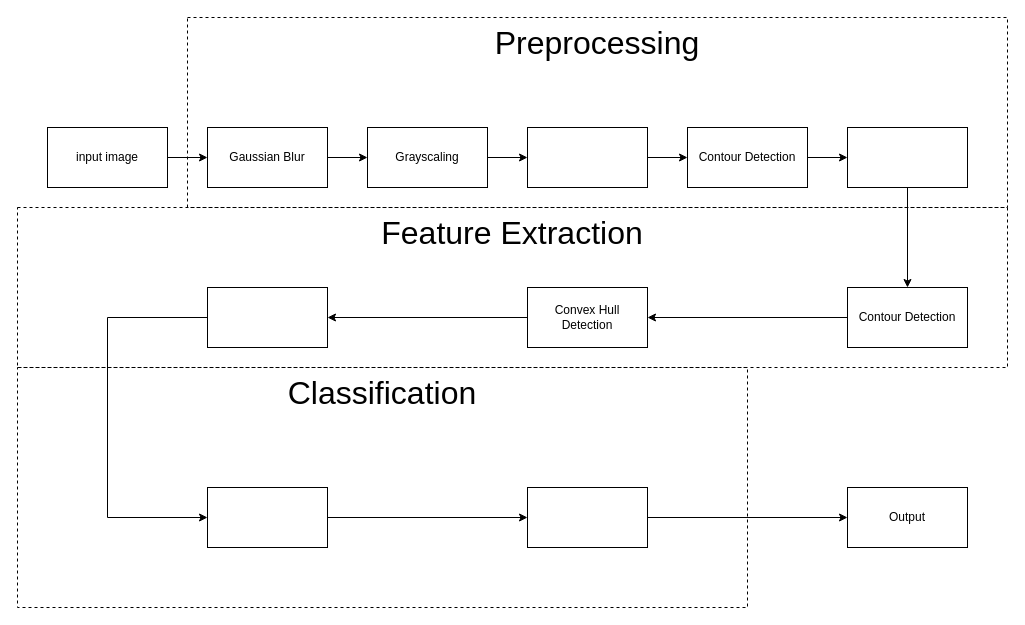
This 1025x625 diagram has some shape labels left out. Here are the shapes that lost their labels. From the top down, the centre of each, then its label:
At (x=587, y=157): "Thresholding".
At (x=907, y=157): "Cropping".
At (x=267, y=317): "Detect Fingers".
At (x=267, y=517): "Identify Fingers".
At (x=587, y=517): "Classify Hand".
